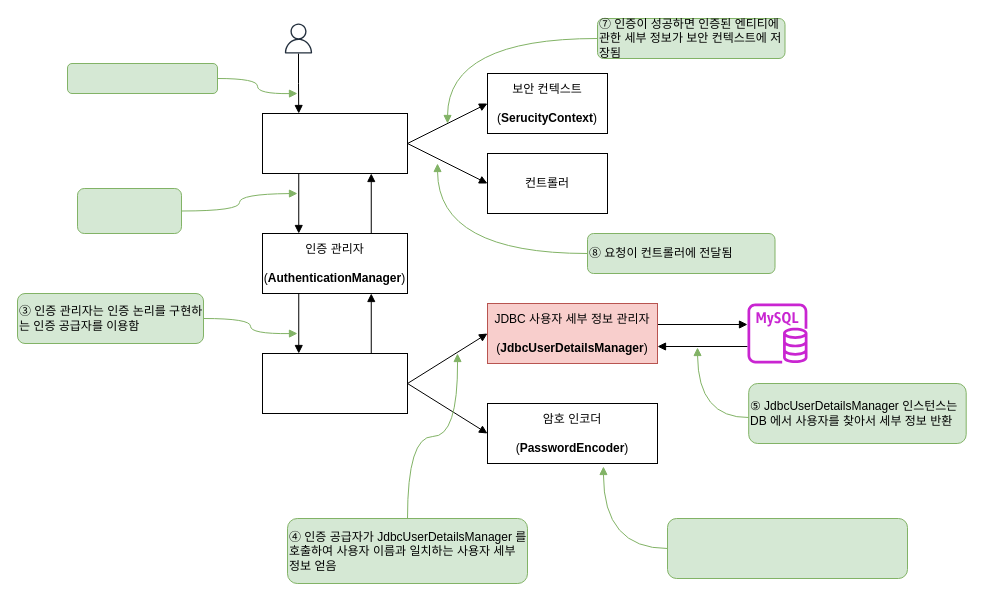
Some shapes in this 984 by 601 pixel diagram are drawn without their labels. The centre of each missing label's shape, as x and y in pixels:
"① 인증 필터가 요청을 가로챔" goes at point (142, 78).
"② 인증 관리자에게 인증 책임이 위임됨" goes at point (129, 211).
"⑥ 사용자가 발견되면 암호 인코더는 사용자가 제공한 암호가 DB 에 있는 암호와 일치하는지 확인" goes at point (787, 548).
"인증 공급자 ( AuthenticationProvider )" goes at point (335, 383).
"인증 필터 ( AuthenticationFilter )" goes at point (335, 143).
